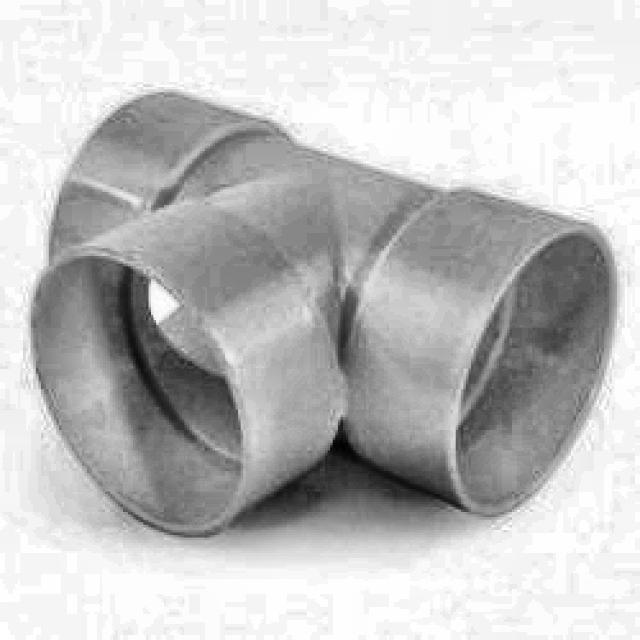EQUALTEE: (28, 92, 622, 540)
